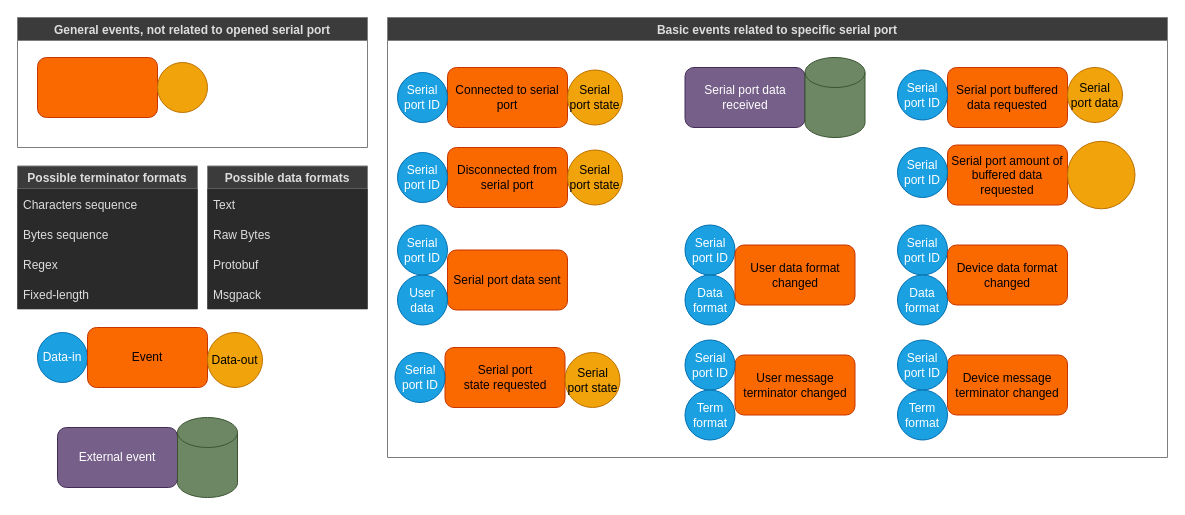
This 1185x515 diagram has some shape labels left out. Here are the shapes that lost their labels. From the top down, the centre of each, then its label:
At (x=97, y=87): "Serial ports list requested".
At (x=182, y=87): "Serial port list".
At (x=834, y=97): "Serial port data buffered".
At (x=1100, y=174): "Amount of buffered data".
At (x=207, y=457): "Data buffering".
